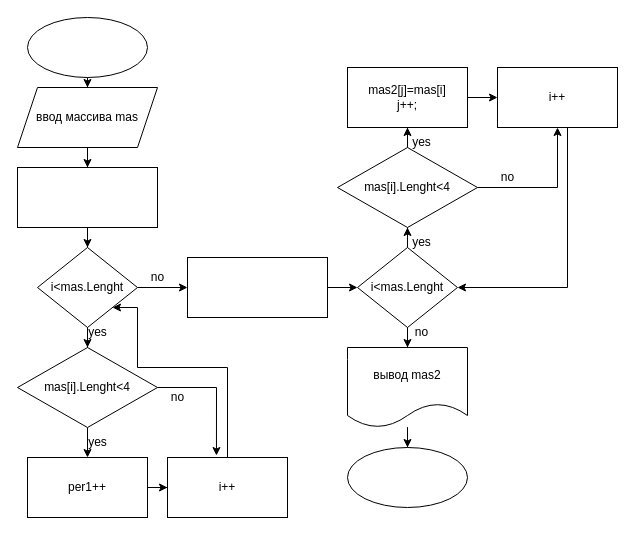
This 635x535 diagram has some shape labels left out. The shapes that lost their labels are listed below. From the top down, each one's centre as x and y in pixels, then its label:
the point at 87,47: start
the point at 87,197: per1=0 i =0;
the point at 257,287: i = 0; j=0; int [] mas = new int [per1]
the point at 407,477: end
